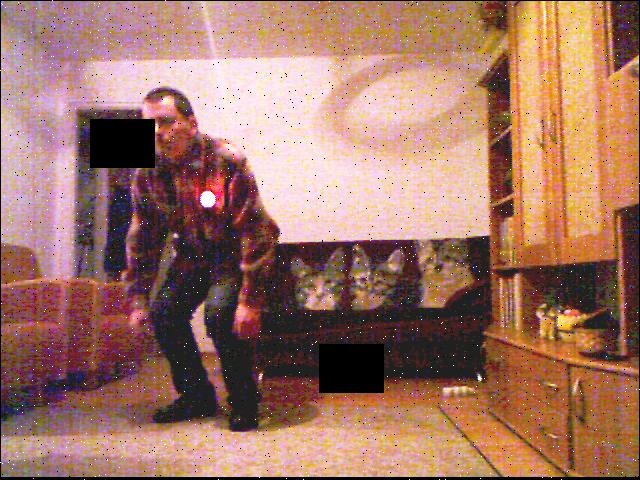sitting: (109, 77, 318, 441)
